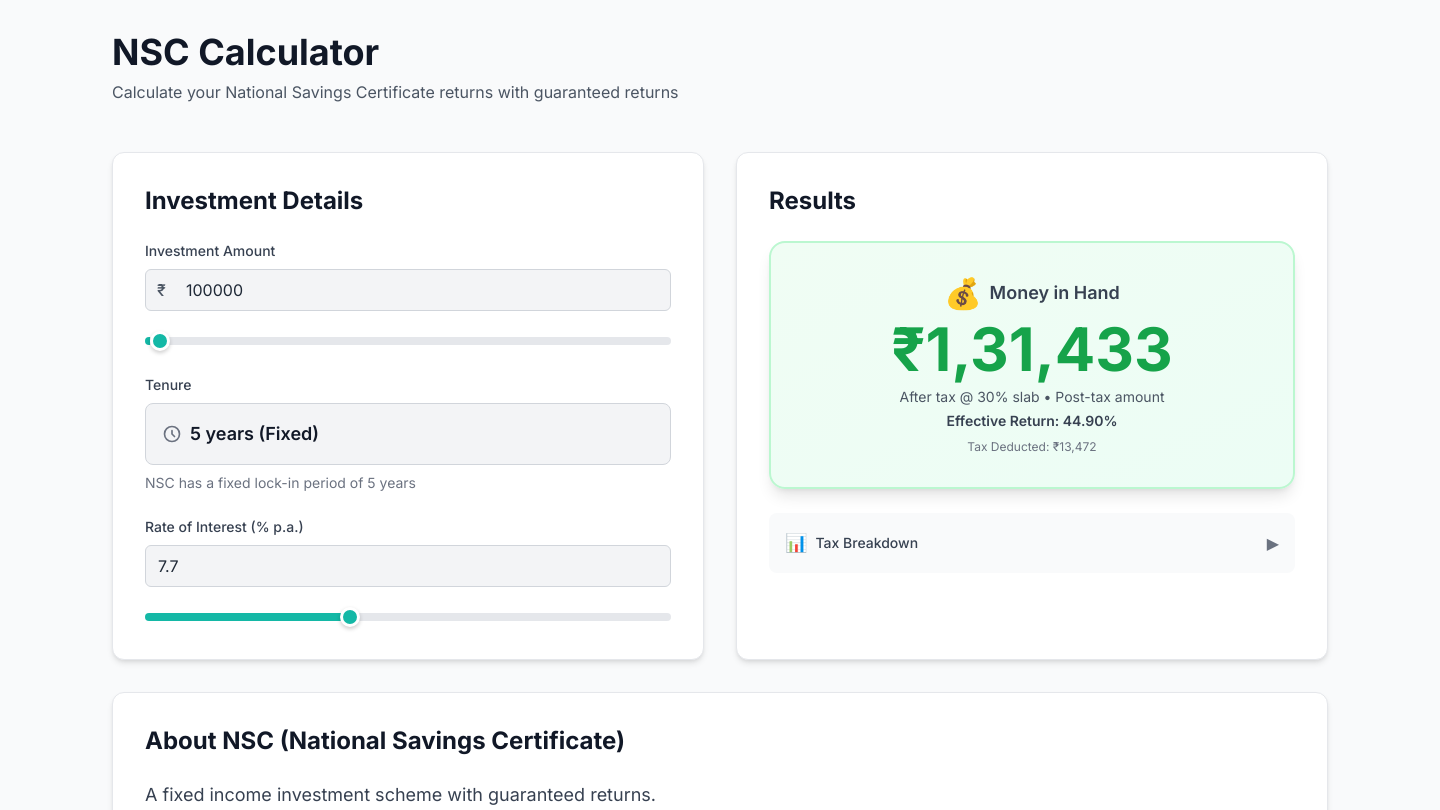
Scenario: NSC Calculator › NSC-20 — Minimum Valid Investment › NSC-20: should accept minimum investment of ₹1,000
Type "1000" into the number field below "Investment Amount" at (408, 290), box x1=145 y1=269 x2=671 y2=311
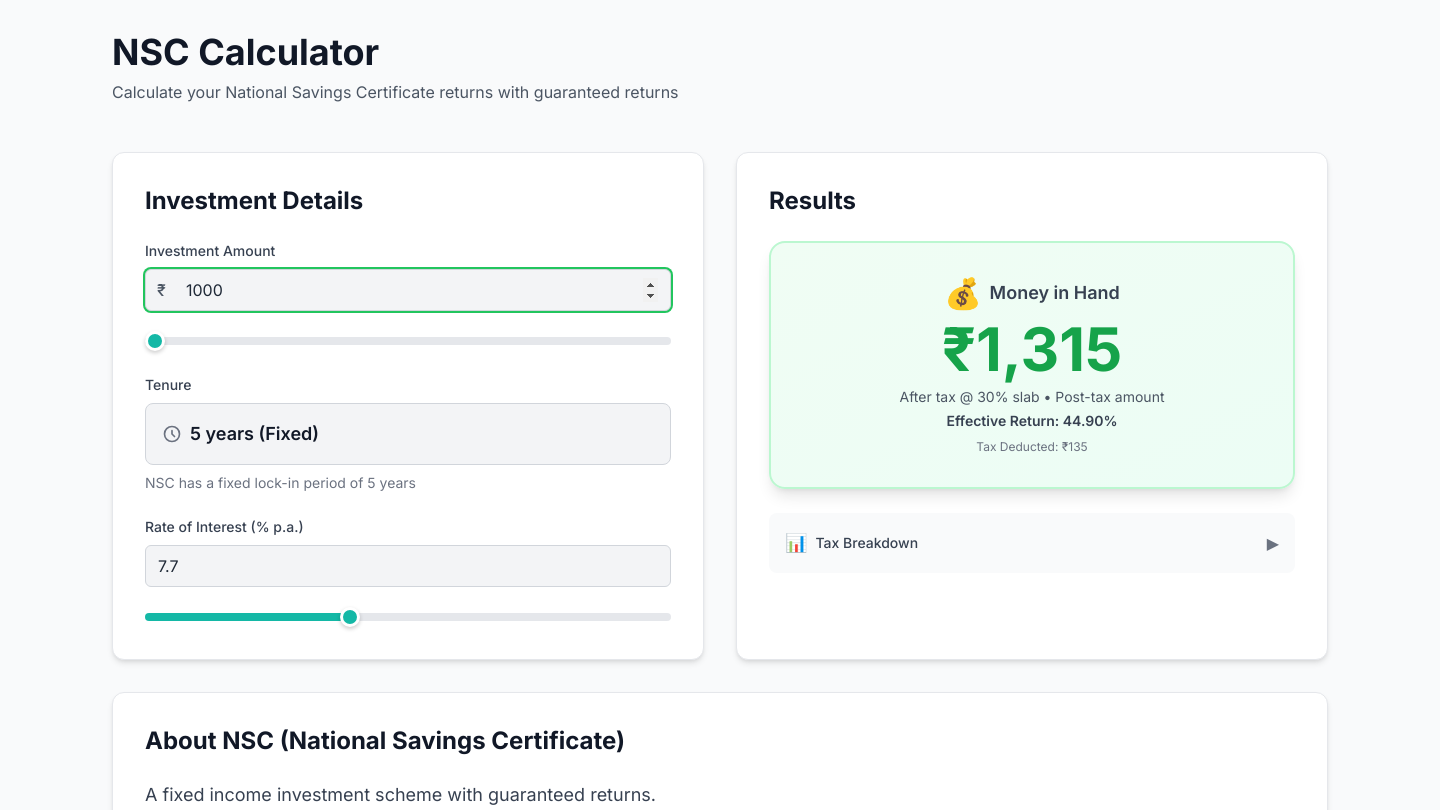
Expected: the heading "Money in Hand" is shown, x1=990 y1=279 x2=1120 y2=307
Result: the text "Minimum investment amount is" is gone
